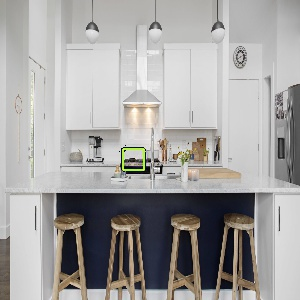square: (119, 145, 148, 174)
